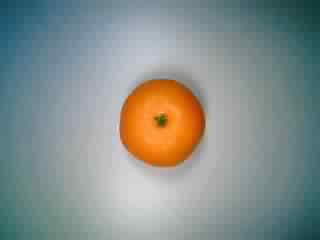orange: (112, 73, 207, 175)
